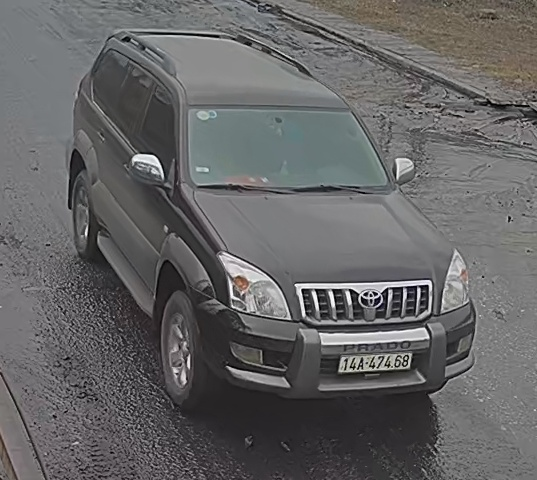vehicle plate: (333, 346, 422, 378)
